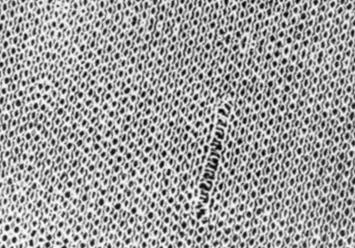slub: (188, 93, 236, 226)
